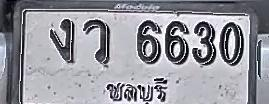0: (220, 21, 244, 66)
3: (192, 20, 216, 66)
6: (137, 20, 161, 64), (165, 20, 189, 64)
A07: (49, 18, 74, 63)
A37: (83, 18, 110, 66)
CBI: (105, 77, 169, 104)
